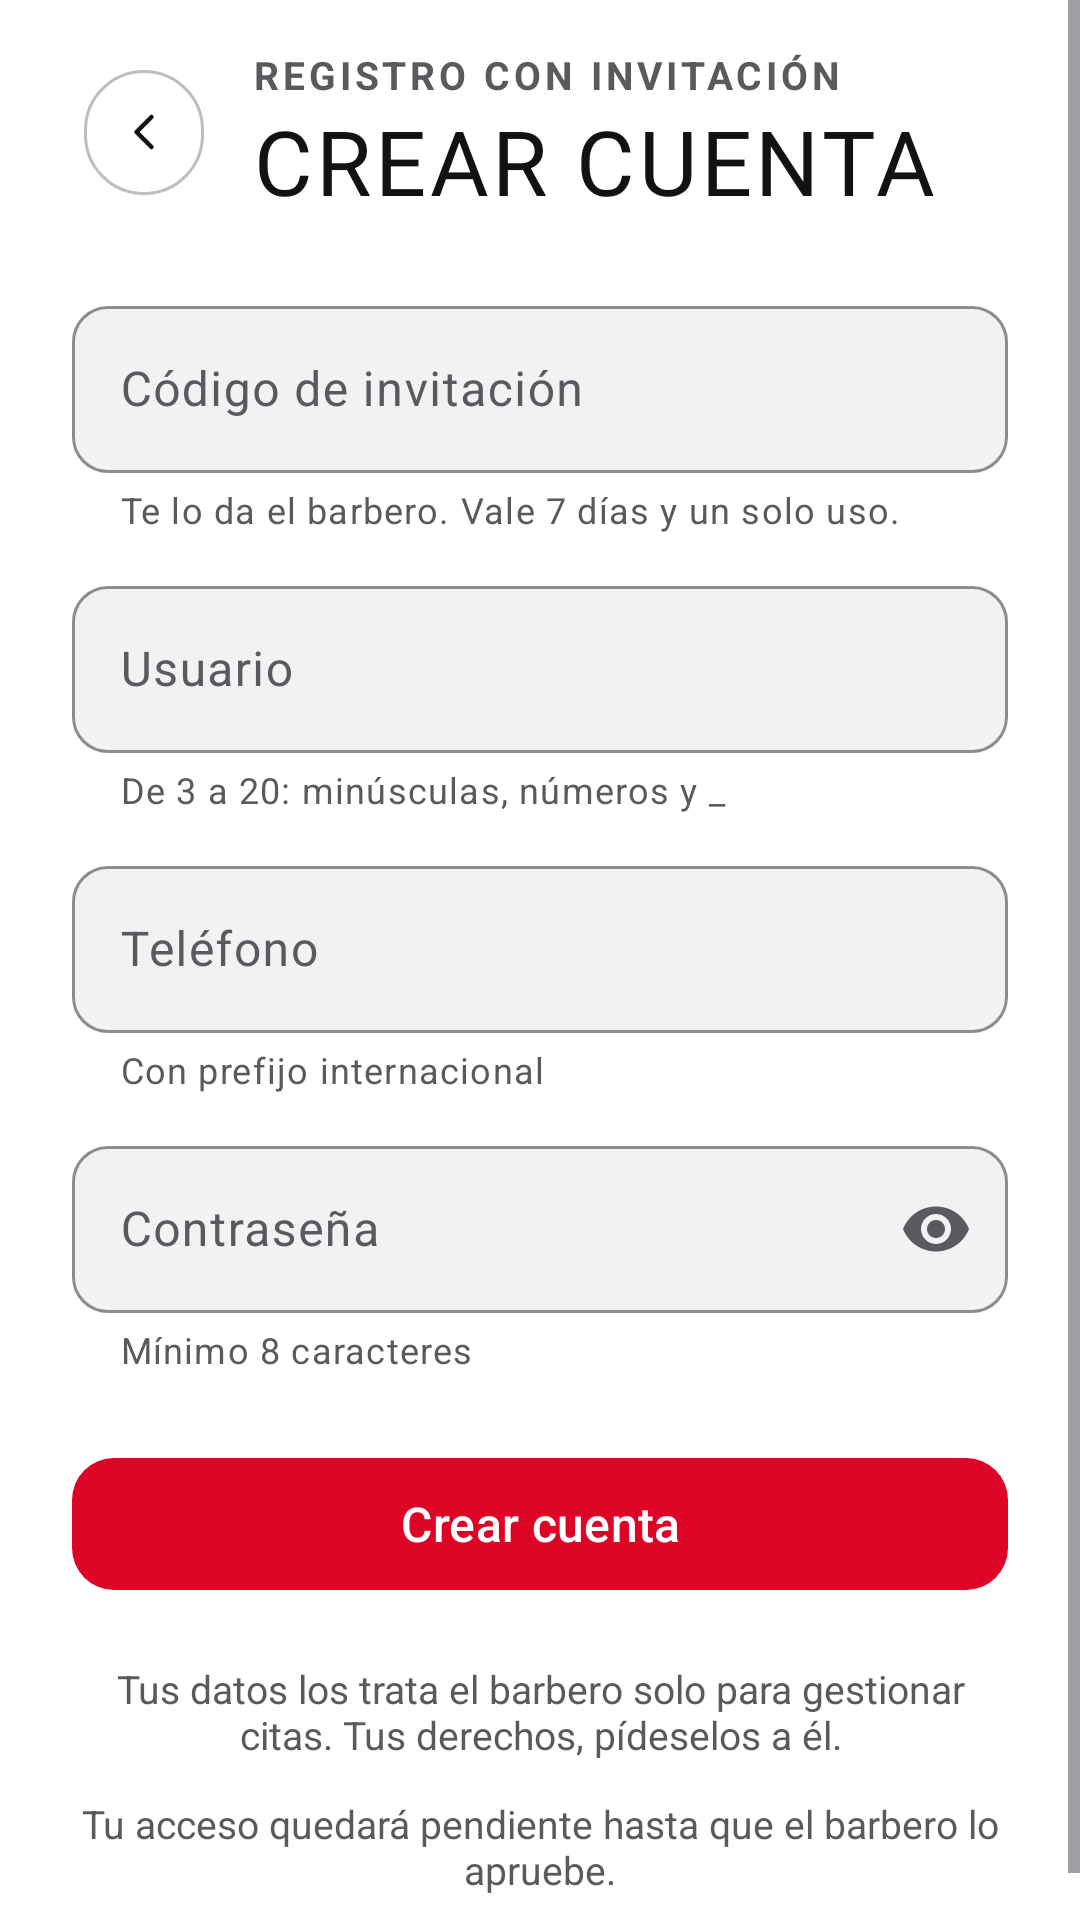

Screen size 1080×1920. Icon name, then its center in pixels as (x=x, y=y):
Volver: (x=144, y=132)
